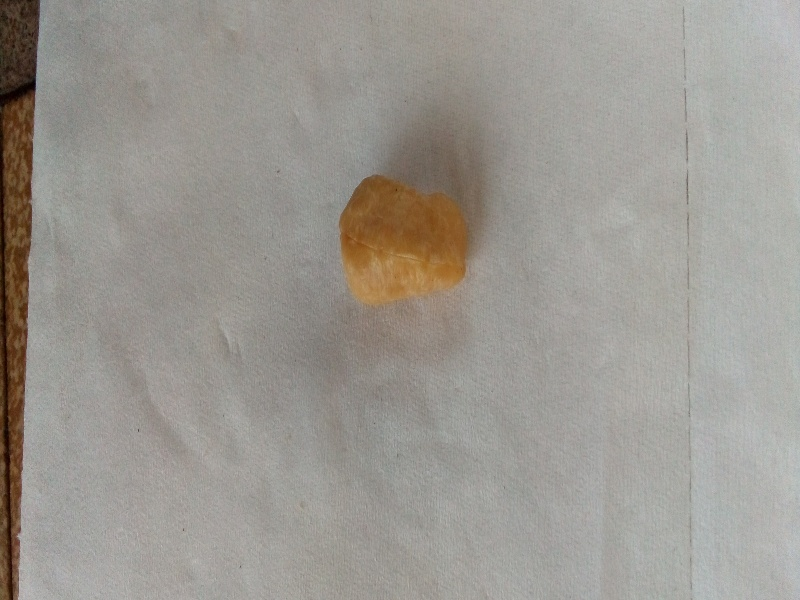cashew: (325, 147, 496, 343)
